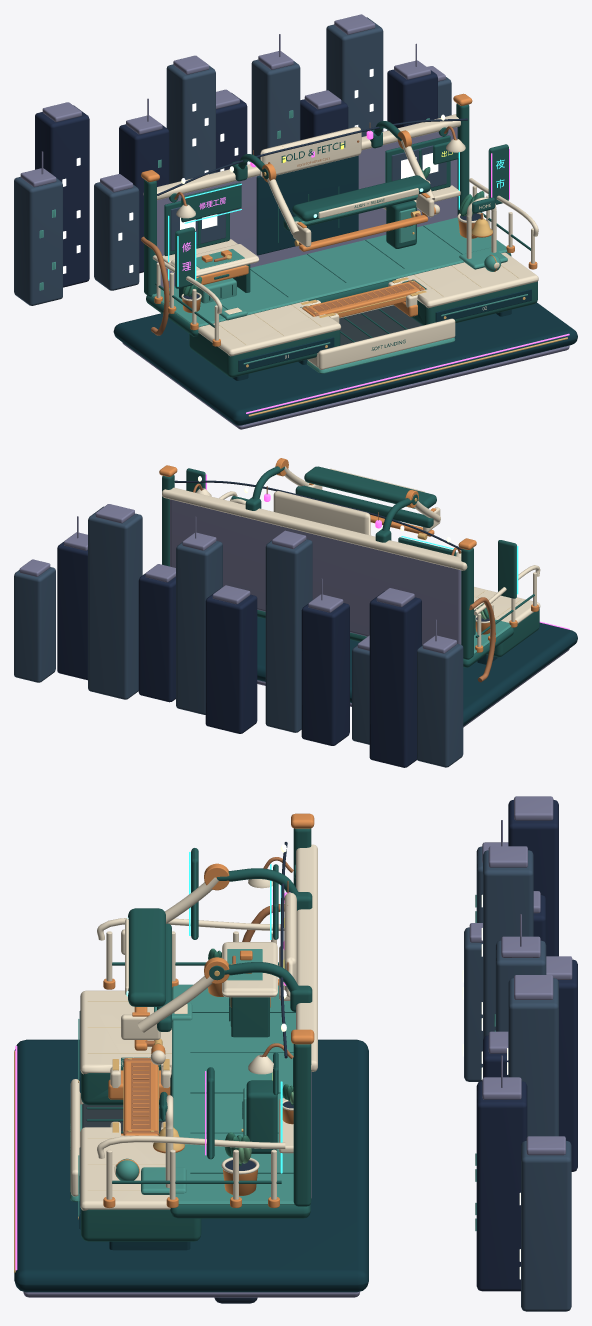
Rendered from 01-workshop-assembled.glb.
3 views of the same model, one above another, from view 1: azimuth 30°, elevation 25°; view 2: azimuth 150°, elevation 25°; view 3: azimuth 270°, elevation 25° (orthographic). The views are drawn at different scales.
Visible parts, largest first — view 1: distant_city_mesh, rooftop_base_mesh, workshop_frame_mesh, floor_left_mesh, floor_right_mesh, neon_signage_mesh, recovery_tray_mesh, upper_chute_mesh, repair_bench_mesh, service_cables_mesh, roof_rails_mesh, bridge_beam_mesh (+4 smaller); view 2: distant_city_mesh, workshop_frame_mesh, rooftop_base_mesh, upper_chute_mesh, neon_signage_mesh, floor_left_mesh, service_cables_mesh, roof_rails_mesh; view 3: rooftop_base_mesh, distant_city_mesh, workshop_frame_mesh, floor_right_mesh, upper_chute_mesh, roof_rails_mesh, floor_left_mesh, repair_bench_mesh, neon_signage_mesh, service_cables_mesh, bridge_beam_mesh, recovery_tray_mesh (+4 smaller).
Part boxes in pixels (x1=…): distant_city_mesh: x1=14, y1=14, x2=451, y2=305; rooftop_base_mesh: x1=113, y1=217, x2=577, y2=429; workshop_frame_mesh: x1=141, y1=93, x2=472, y2=296; floor_left_mesh: x1=189, y1=300, x2=340, y2=380; floor_right_mesh: x1=396, y1=252, x2=538, y2=325; neon_signage_mesh: x1=168, y1=123, x2=569, y2=413; recovery_tray_mesh: x1=306, y1=305, x2=455, y2=373; upper_chute_mesh: x1=262, y1=130, x2=434, y2=247; repair_bench_mesh: x1=170, y1=244, x2=258, y2=303; service_cables_mesh: x1=141, y1=114, x2=467, y2=335; roof_rails_mesh: x1=152, y1=178, x2=538, y2=346; bridge_beam_mesh: x1=302, y1=280, x2=425, y2=317; distant_city_mesh: x1=14, y1=504, x2=463, y2=767; workshop_frame_mesh: x1=159, y1=465, x2=476, y2=659; rooftop_base_mesh: x1=257, y1=610, x2=577, y2=727; upper_chute_mesh: x1=275, y1=458, x2=440, y2=531; neon_signage_mesh: x1=186, y1=468, x2=569, y2=629; floor_left_mesh: x1=474, y1=587, x2=540, y2=664; service_cables_mesh: x1=174, y1=476, x2=495, y2=682; roof_rails_mesh: x1=219, y1=491, x2=540, y2=652; rooftop_base_mesh: x1=14, y1=984, x2=368, y2=1303; distant_city_mesh: x1=462, y1=796, x2=577, y2=1311; workshop_frame_mesh: x1=217, y1=813, x2=317, y2=1206; floor_right_mesh: x1=78, y1=1127, x2=201, y2=1250; upper_chute_mesh: x1=121, y1=863, x2=229, y2=1039; roof_rails_mesh: x1=97, y1=918, x2=285, y2=1207; floor_left_mesh: x1=78, y1=990, x2=171, y2=1105; repair_bench_mesh: x1=222, y1=942, x2=277, y2=1037; neon_signage_mesh: x1=15, y1=848, x2=290, y2=1270; service_cables_mesh: x1=241, y1=842, x2=287, y2=1153; bridge_beam_mesh: x1=123, y1=1058, x2=158, y2=1135; recovery_tray_mesh: x1=70, y1=1079, x2=165, y2=1201.
Size of the model in its own units: 11.31 by 5.6 by 8.91.
